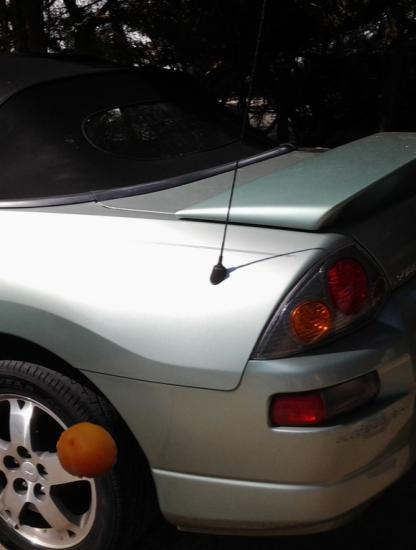Apricot: (56, 420, 119, 483)
